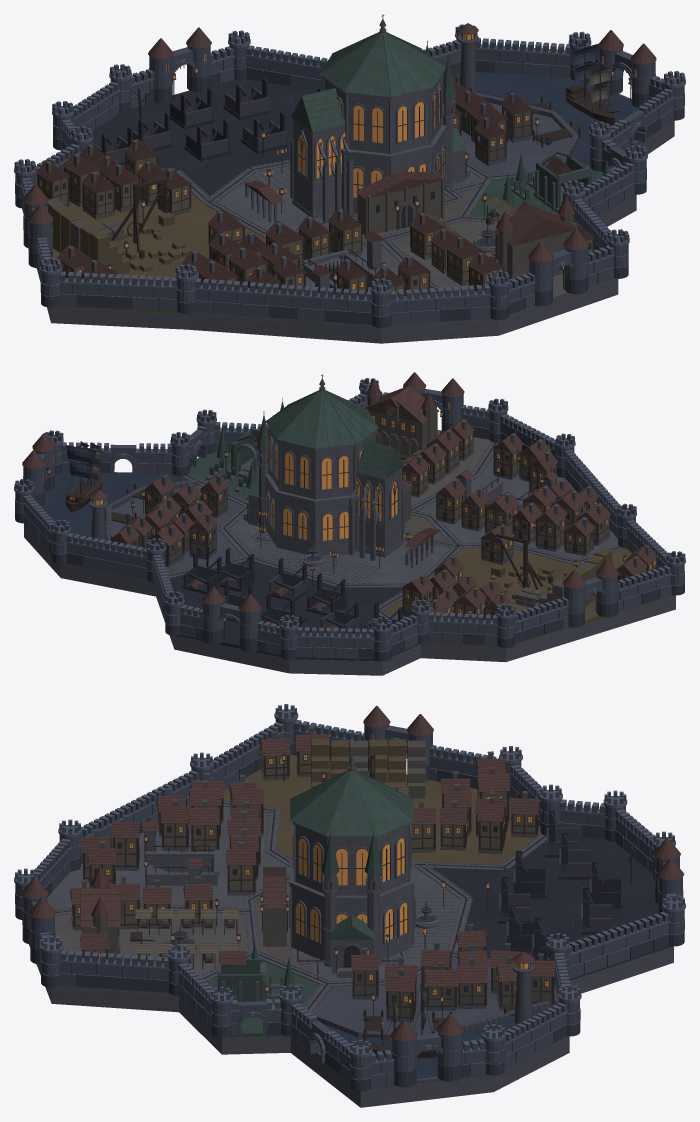
Rendered from CityMap_v4.fbx.
3 views of the same model, one above another, from view 1: azimuth 30°, elevation 25°; view 2: azimuth 150°, elevation 25°; view 3: azimuth 270°, elevation 25° (orthographic). The views are drawn at different scales.
Parts seen in each view (by area): view 1: curtain_walls_crenellations, city_rock_foundation, cathedral_octagonal_palatine_chapel, district_04_ground, v4_gate_masonry_depth, cathedral_gothic_choir_buttresses, ruins_burnt_houses_broken_beams, cathedral_octagonal_copper_roof, district_03_ground, treasury_fortified_gallery, river_broad_water, quarry_terraced_rock_cut (+55 smaller); view 2: curtain_walls_crenellations, cathedral_octagonal_palatine_chapel, city_rock_foundation, ruins_burnt_houses_broken_beams, cathedral_gothic_choir_buttresses, v4_gate_masonry_depth, district_04_ground, cathedral_octagonal_copper_roof, market_town_hall, district_03_ground, river_broad_water, district_08_ground (+53 smaller); view 3: curtain_walls_crenellations, cathedral_octagonal_palatine_chapel, city_rock_foundation, district_04_ground, ruins_burnt_houses_broken_beams, cathedral_octagonal_copper_roof, v4_gate_masonry_depth, district_03_ground, quarry_terraced_rock_cut, district_05_ground, district_01_ground, district_02_ground (+56 smaller).
Part boxes in pixels (left/top/right/bottom): curtain_walls_crenellations: left=14, top=24, right=685, bottom=327; city_rock_foundation: left=37, top=120, right=674, bottom=343; cathedral_octagonal_palatine_chapel: left=322, top=73, right=446, bottom=214; district_04_ground: left=92, top=79, right=317, bottom=196; v4_gate_masonry_depth: left=23, top=46, right=655, bottom=306; cathedral_gothic_choir_buttresses: left=290, top=88, right=353, bottom=222; ruins_burnt_houses_broken_beams: left=92, top=78, right=322, bottom=165; cathedral_octagonal_copper_roof: left=319, top=14, right=446, bottom=97; district_03_ground: left=52, top=192, right=265, bottom=313; treasury_fortified_gallery: left=355, top=170, right=446, bottom=235; river_broad_water: left=455, top=72, right=638, bottom=166; quarry_terraced_rock_cut: left=47, top=198, right=191, bottom=274; curtain_walls_crenellations: left=14, top=378, right=685, bottom=661; cathedral_octagonal_palatine_chapel: left=265, top=426, right=376, bottom=555; city_rock_foundation: left=24, top=524, right=675, bottom=675; ruins_burnt_houses_broken_beams: left=182, top=547, right=402, bottom=634; cathedral_gothic_choir_buttresses: left=348, top=440, right=404, bottom=560; v4_gate_masonry_depth: left=23, top=388, right=618, bottom=651; district_04_ground: left=169, top=560, right=419, bottom=661; cathedral_octagonal_copper_roof: left=265, top=374, right=378, bottom=448; market_town_hall: left=365, top=379, right=439, bottom=455; district_03_ground: left=385, top=547, right=673, bottom=647; river_broad_water: left=41, top=472, right=189, bottom=541; district_08_ground: left=230, top=516, right=450, bottom=583; curtain_walls_crenellations: left=14, top=704, right=685, bottom=1091; cathedral_octagonal_palatine_chapel: left=288, top=822, right=415, bottom=960; city_rock_foundation: left=29, top=944, right=673, bottom=1107; district_04_ground: left=431, top=836, right=671, bottom=980; ruins_burnt_houses_broken_beams: left=498, top=810, right=622, bottom=960; cathedral_octagonal_copper_roof: left=290, top=752, right=413, bottom=836; v4_gate_masonry_depth: left=22, top=724, right=683, bottom=1087; district_03_ground: left=223, top=755, right=540, bottom=865; quarry_terraced_rock_cut: left=311, top=738, right=425, bottom=798; district_05_ground: left=313, top=956, right=568, bottom=1089; district_01_ground: left=55, top=908, right=248, bottom=994; district_02_ground: left=47, top=805, right=289, bottom=910.
Size of what is drawn, in the model's own units: 61.8 by 17.83 by 50.77.
Materials: 48 (45 with a texture image).
